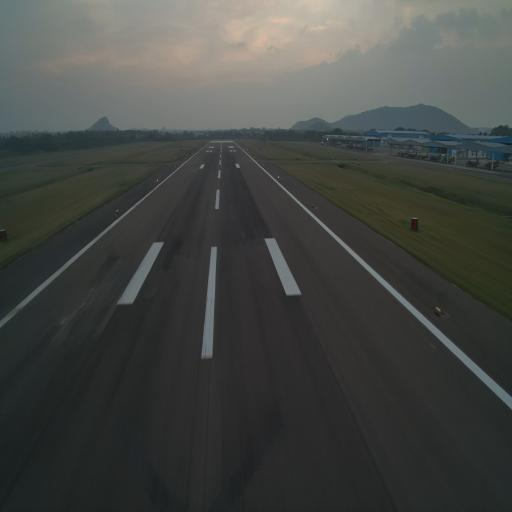off: (309, 202, 317, 210)
on: (434, 303, 442, 323), (115, 207, 119, 217)
